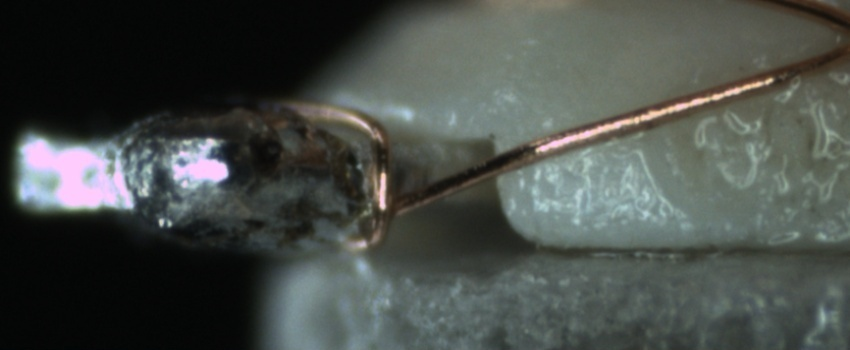TE: (263, 97, 397, 238)
